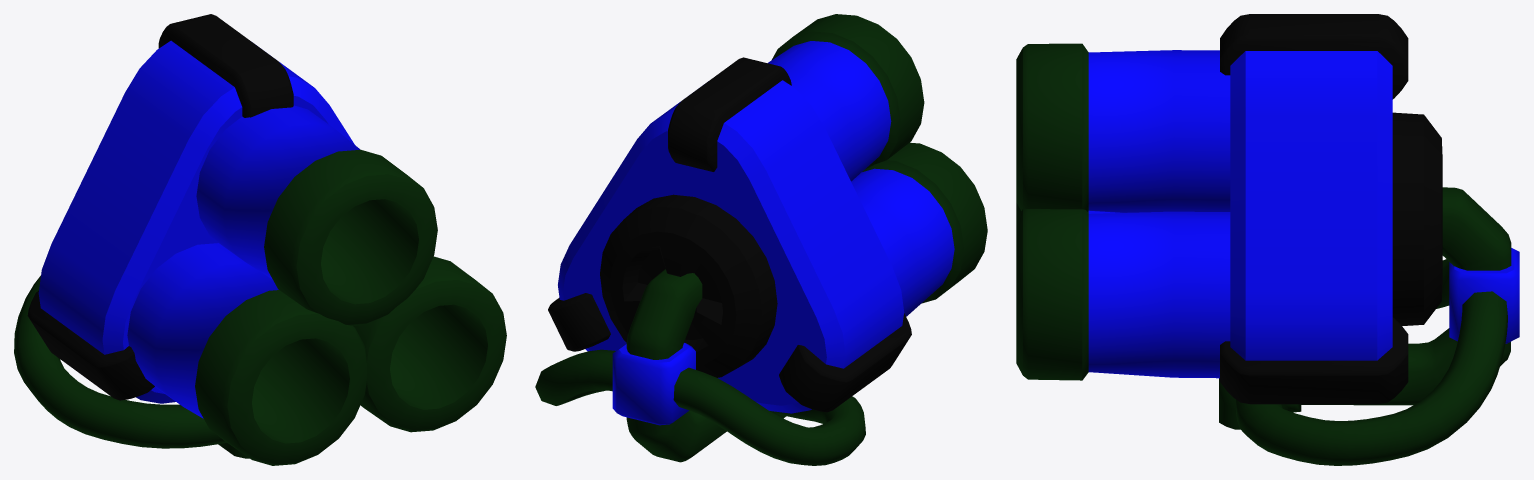
The model's file is 3D_CannonTriple_Head_MESH.fbx.
3 renders of one model, left to right at view 1: azimuth 30°, elevation 25°; view 2: azimuth 150°, elevation 25°; view 3: azimuth 270°, elevation 25°, orthographic. The views are drawn at different scales.
Visible parts, largest first — view 1: 3D_CannonTriple_Head_MESH; view 2: 3D_CannonTriple_Head_MESH; view 3: 3D_CannonTriple_Head_MESH.
Boxes of the visible parts, x1,y1,x2,y2 form: 3D_CannonTriple_Head_MESH: (14, 14, 506, 465); 3D_CannonTriple_Head_MESH: (535, 14, 987, 465); 3D_CannonTriple_Head_MESH: (1016, 14, 1519, 465).
Bounding box in the file's own units: 174 × 191 × 223.
